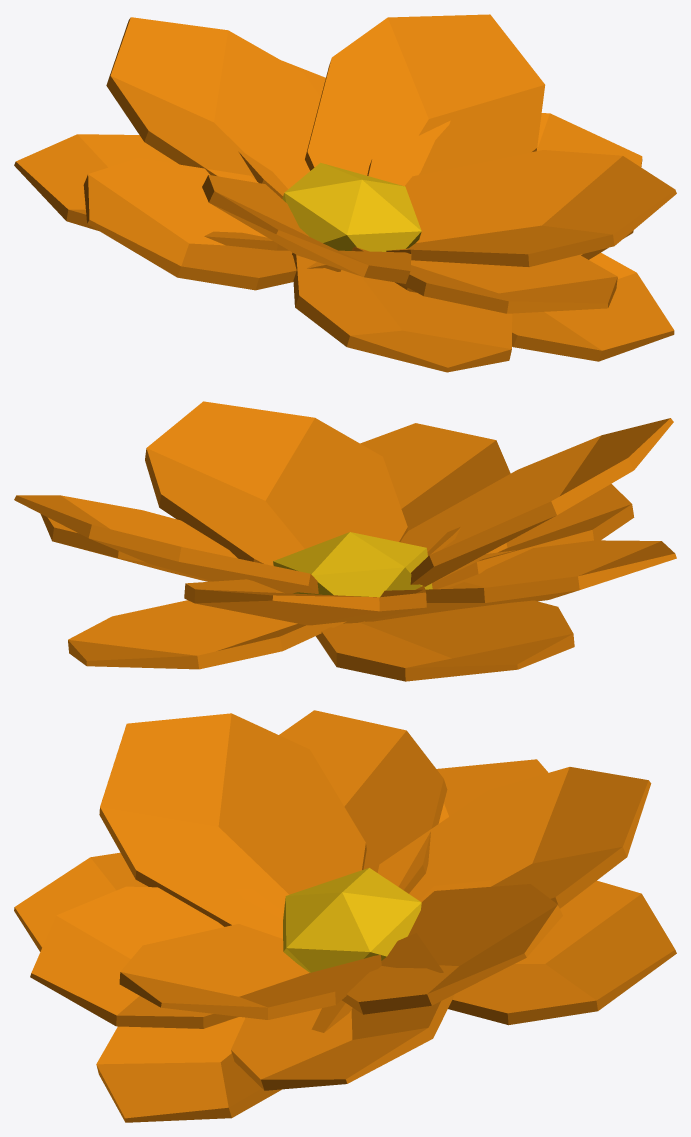
Rendered from flower-individual.fbx.
The picture shows the model from 3 angles, top to bottom: view 1: azimuth 30°, elevation 25°; view 2: azimuth 150°, elevation 25°; view 3: azimuth 270°, elevation 25°; orthographic projection. The views are drawn at different scales.
Parts seen in each view (by area): view 1: node_calendula (4)_-1528786_3.001; view 2: node_calendula (4)_-1528786_3.001; view 3: node_calendula (4)_-1528786_3.001.
Part boxes in pixels (x1=…): node_calendula (4)_-1528786_3.001: x1=14, y1=14, x2=676, y2=372; node_calendula (4)_-1528786_3.001: x1=14, y1=401, x2=676, y2=681; node_calendula (4)_-1528786_3.001: x1=14, y1=710, x2=676, y2=1122.
Bounding box in the file's own units: 741 × 254 × 734.
